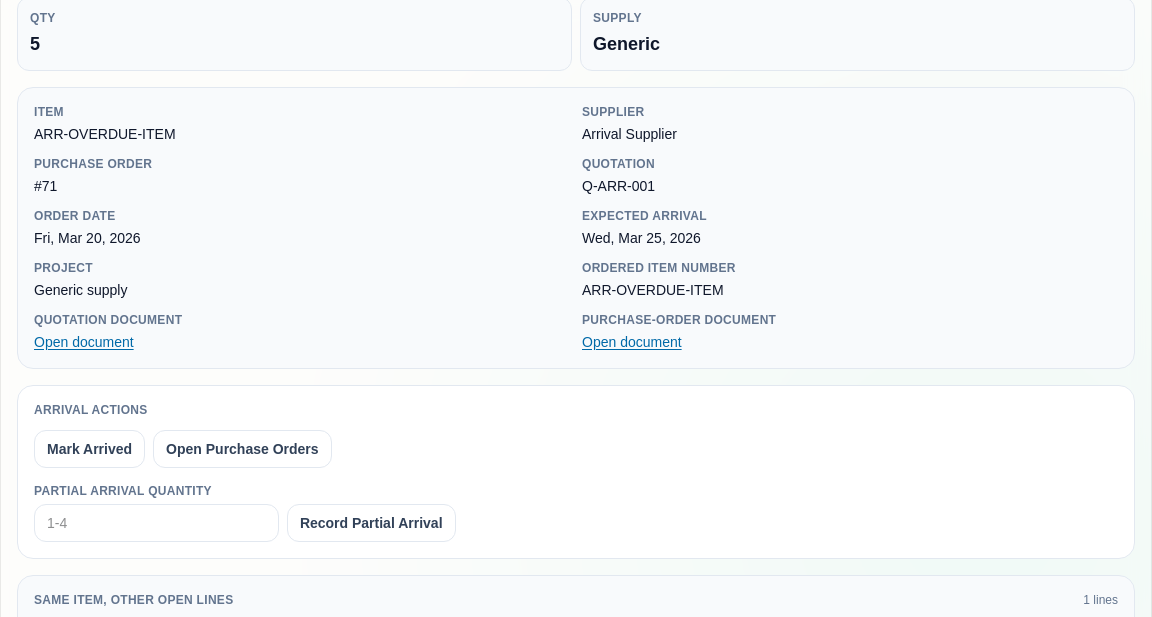
Scenario: ArrivalPage › marks an arrival from the detail pane and refreshes the schedule
The image size is (1152, 617).
(page scrolled)
Click the button "Mark Arrived": (90,449) [34,430,145,468]
(page scrolled)
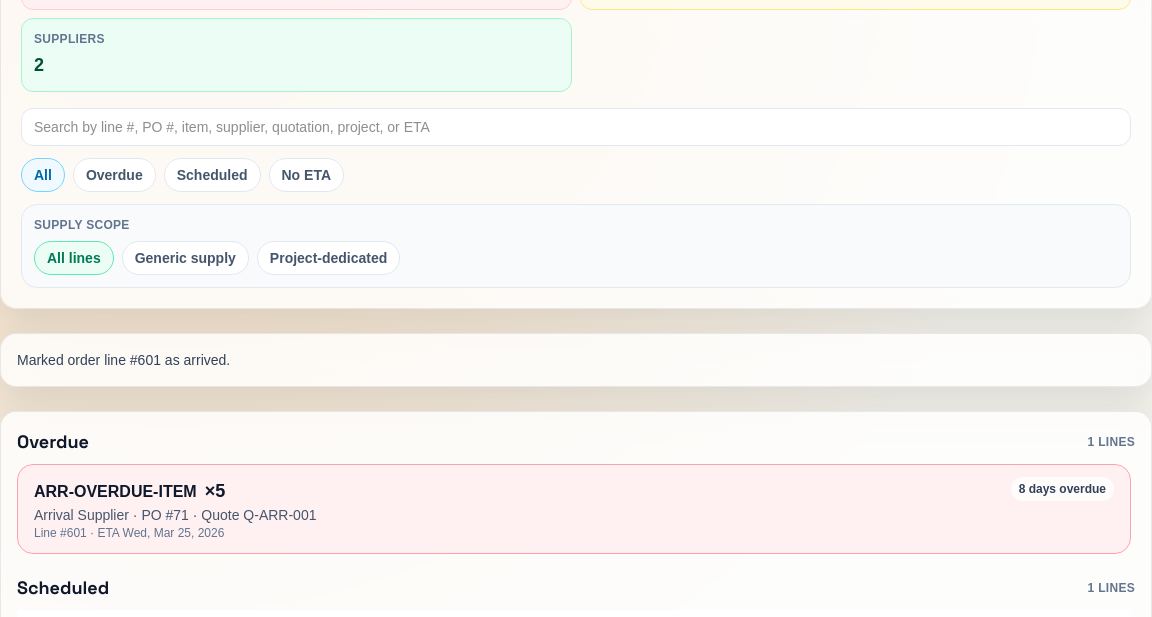
Result: the text "Marked order line #601 as arrived." is shown at [17,352,230,368]
